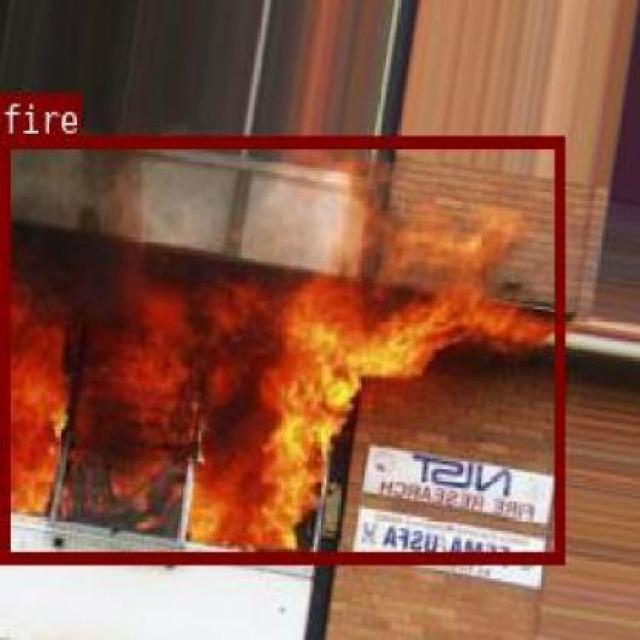Fire: (281, 347, 562, 428)
